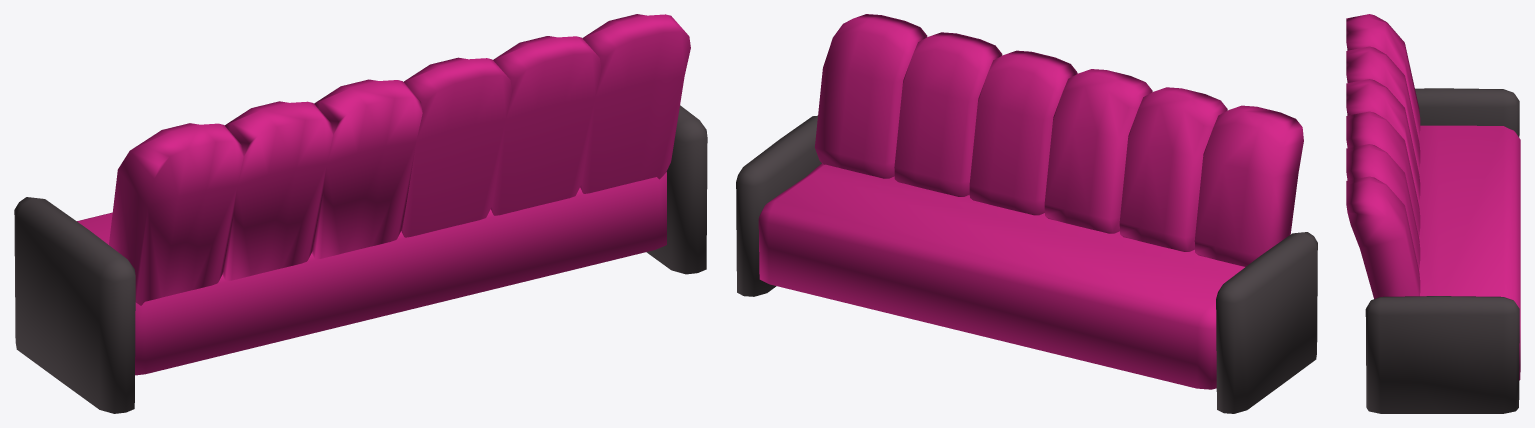
The model's file is ChairC3_geo.fbx.
3 views of the same model, side by side, from view 1: azimuth 30°, elevation 25°; view 2: azimuth 150°, elevation 25°; view 3: azimuth 270°, elevation 25° (orthographic). The views are drawn at different scales.
Visible parts, largest first — view 1: ChairC3_geo; view 2: ChairC3_geo; view 3: ChairC3_geo.
Part boxes in pixels (x1,y1,x2,y2): ChairC3_geo: (14,14,707,413); ChairC3_geo: (736,14,1317,413); ChairC3_geo: (1346,14,1520,413).
Bounding box in the file's own units: 2.08 × 0.6937 × 0.8748.
